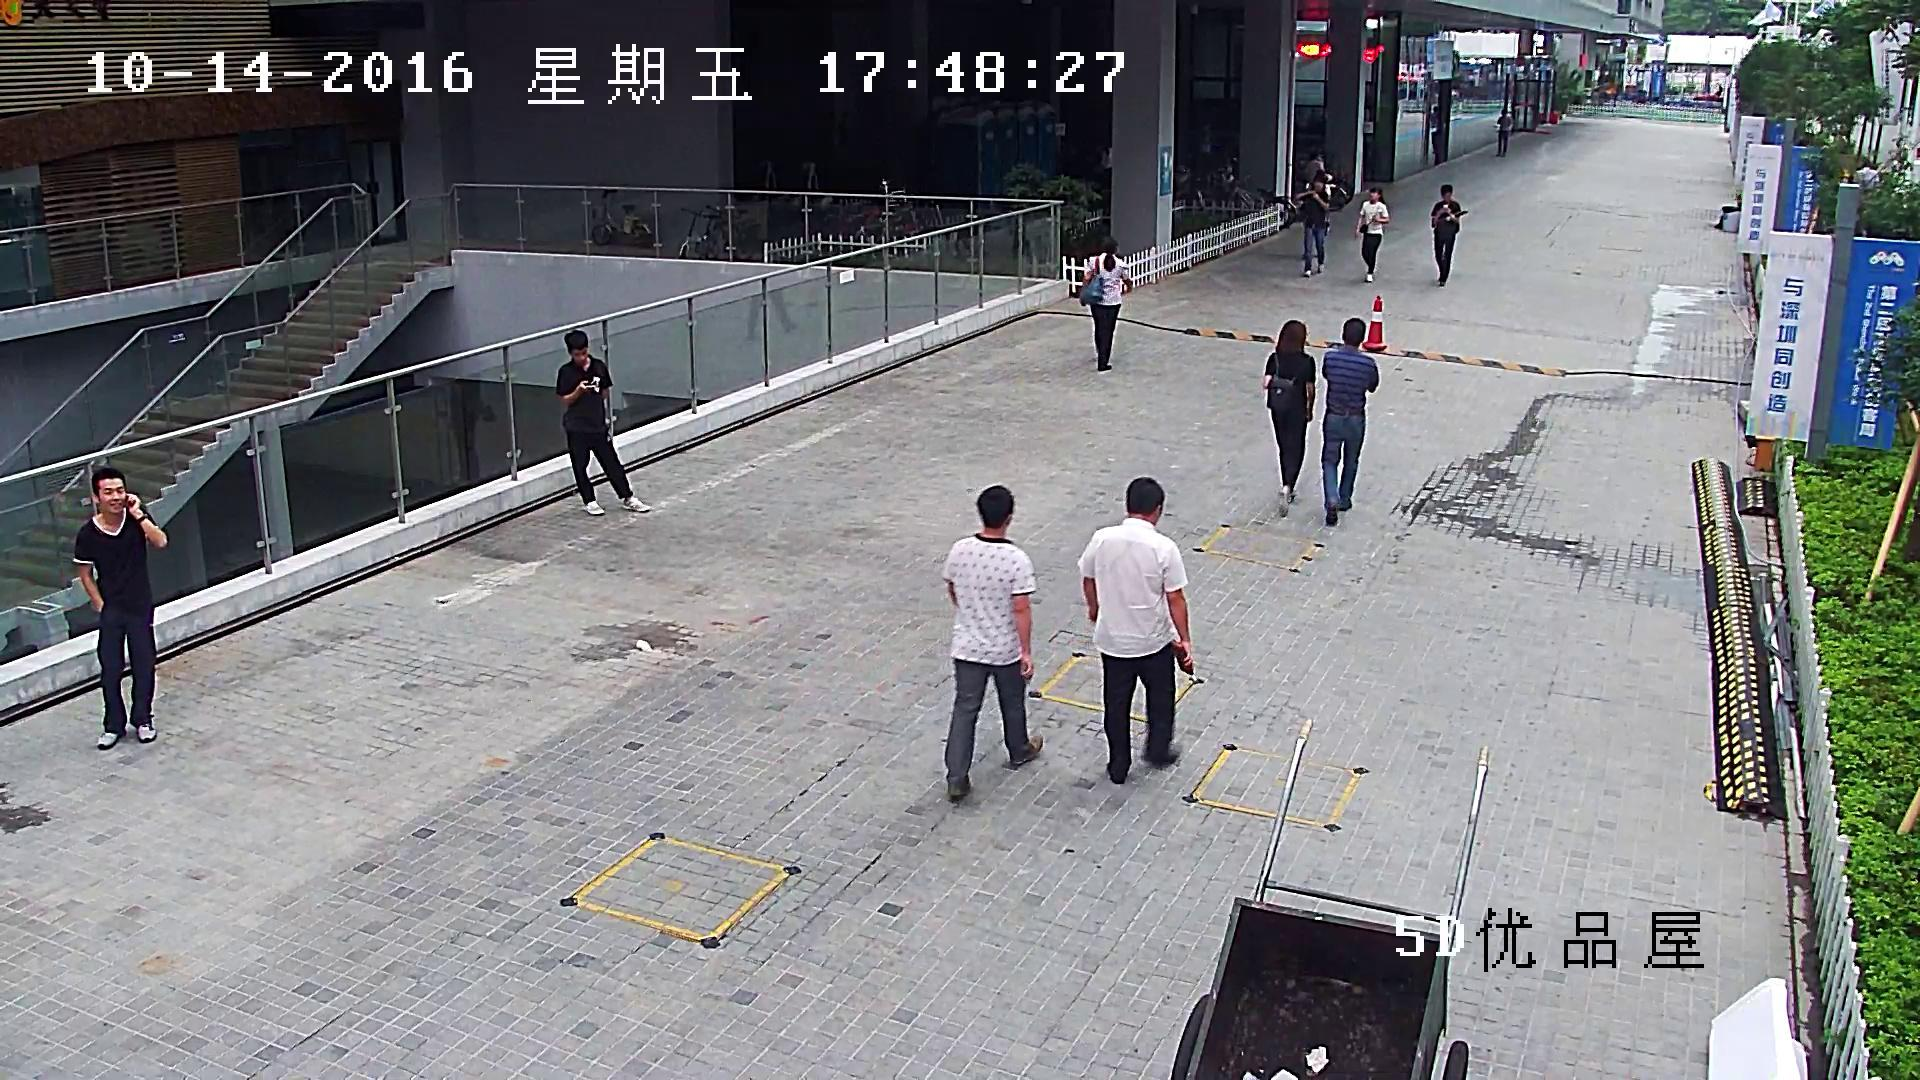person: (1077, 476, 1193, 784), (940, 485, 1044, 797), (72, 467, 168, 748), (555, 330, 649, 514), (1322, 318, 1379, 525), (1262, 320, 1316, 515), (1079, 236, 1132, 371), (449, 376, 495, 480), (1429, 183, 1468, 287), (1295, 176, 1329, 276), (1355, 186, 1389, 282), (743, 290, 796, 339), (1495, 109, 1512, 158), (1432, 106, 1438, 154)
